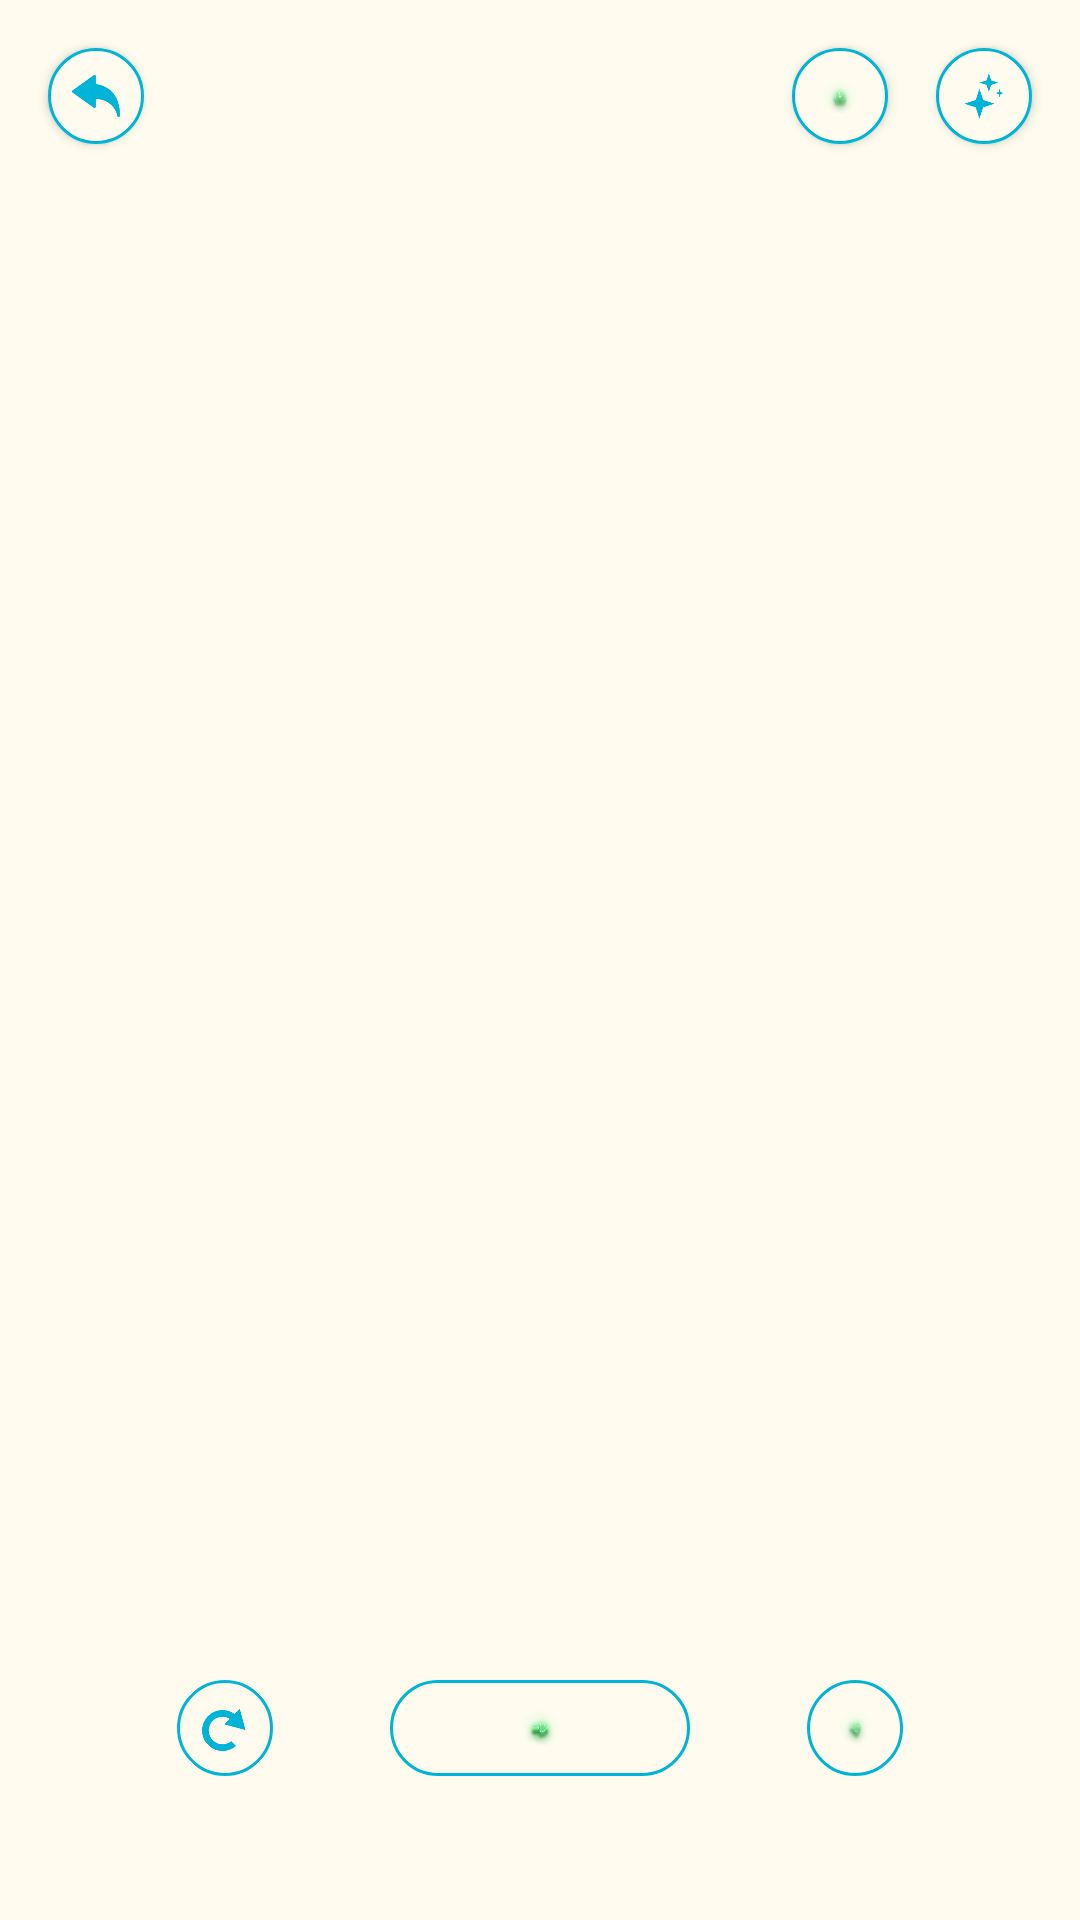

Locate icon controls on the screen. Image size 1080x1920, boxes as (x1, y1, x2, y2).
back: (48, 48, 144, 144)
stars: (936, 48, 1032, 144)
